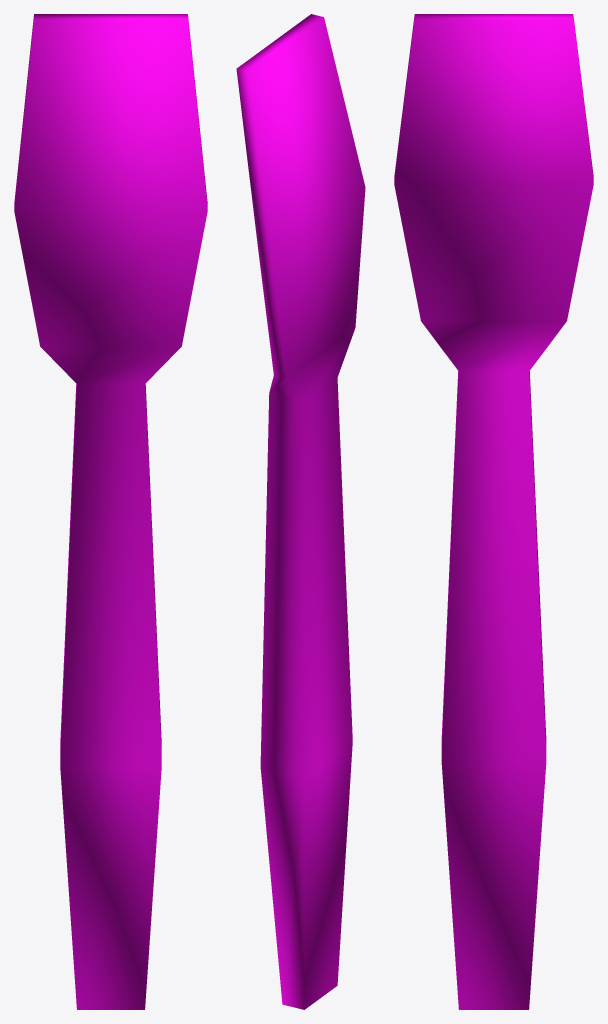
Rendered from fork_meshCollider.fbx.
3 views of the same model, side by side, from view 1: azimuth 90°, elevation 25°; view 2: azimuth 150°, elevation 25°; view 3: azimuth 270°, elevation 25° (orthographic). The views are drawn at different scales.
Parts seen in each view (by area): view 1: foods_fork_1_meshCollider; view 2: foods_fork_1_meshCollider; view 3: foods_fork_1_meshCollider.
Boxes of the visible parts, x1=… form: foods_fork_1_meshCollider: x1=14, y1=14, x2=207, y2=1009; foods_fork_1_meshCollider: x1=236, y1=14, x2=365, y2=1009; foods_fork_1_meshCollider: x1=394, y1=14, x2=593, y2=1009.
Bounding box in the file's own units: 1.48 × 24.57 × 4.43.
